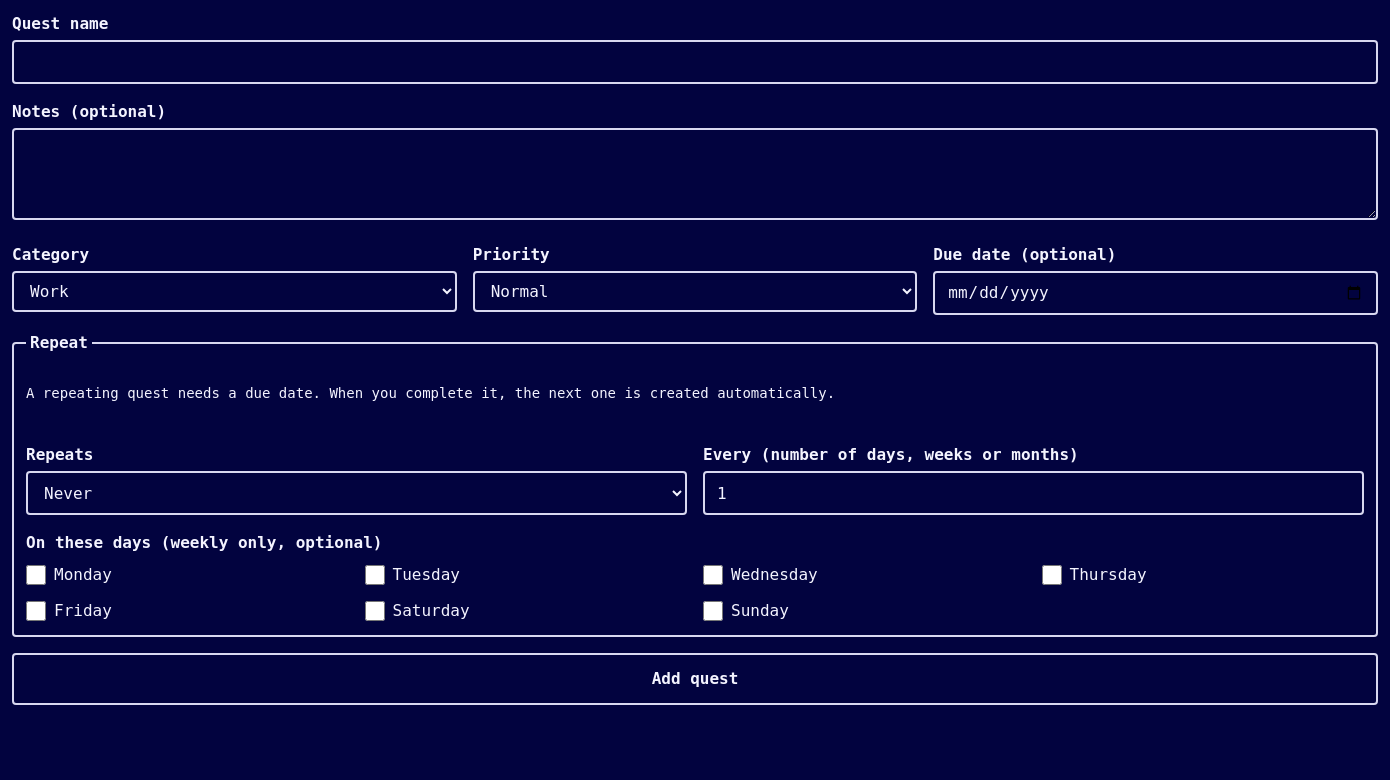
Test: TaskForm › confirms a saved quest
Click the button "Add quest" at (695, 679), box [12, 653, 1378, 705]
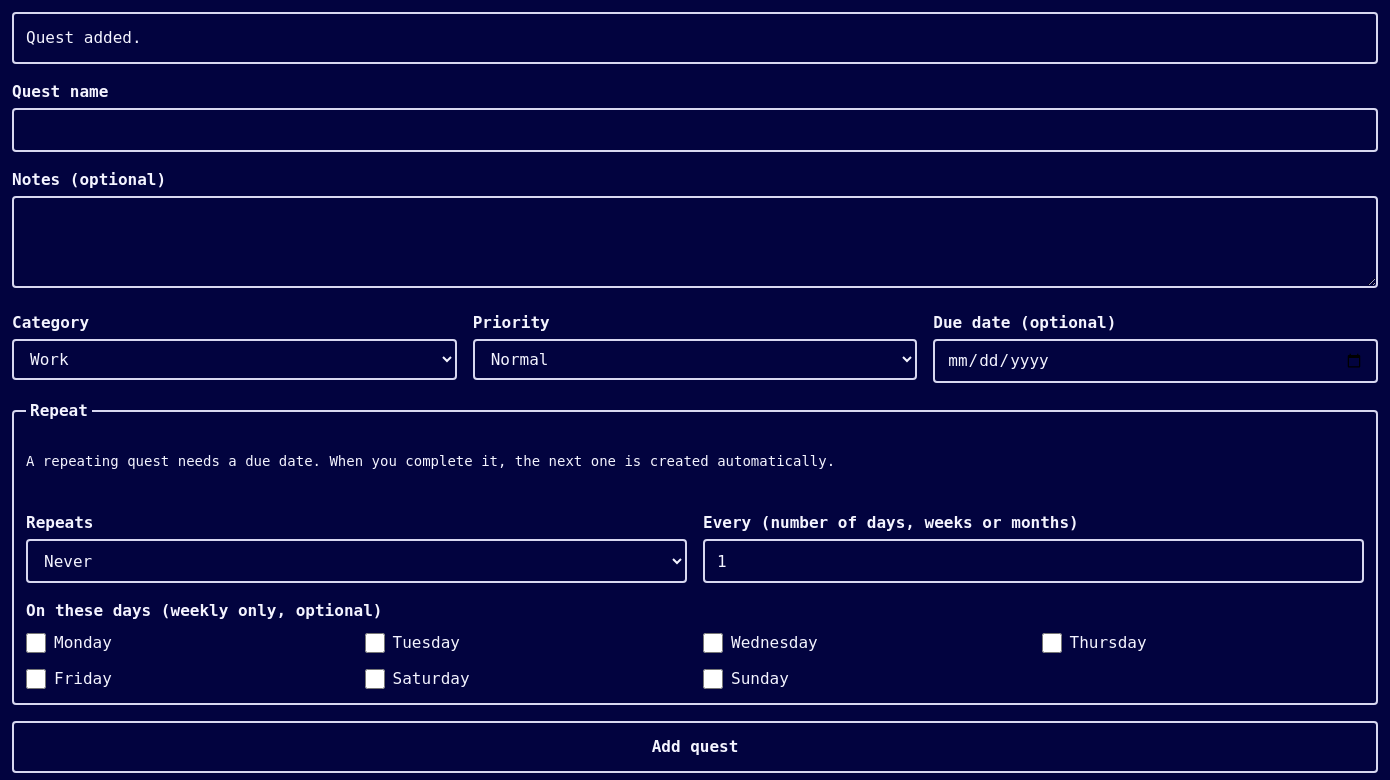
Check: the message reads "Quest added.", box [26, 28, 142, 47]
